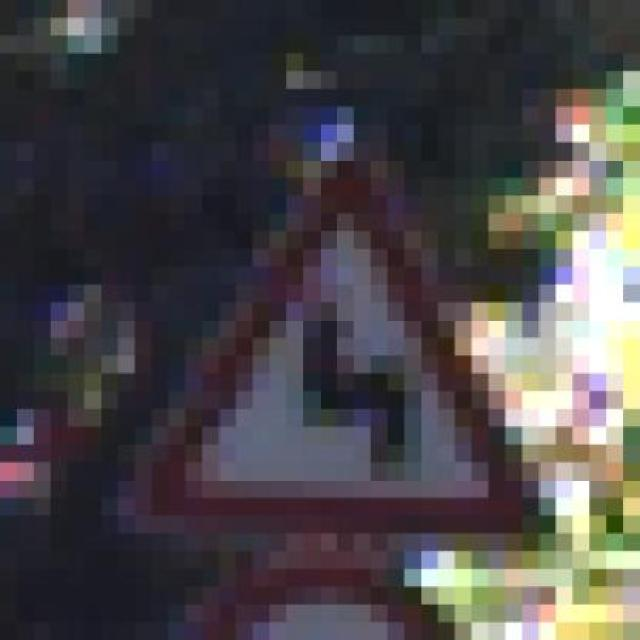Left Zig Zag Traffic: (101, 124, 573, 551)
